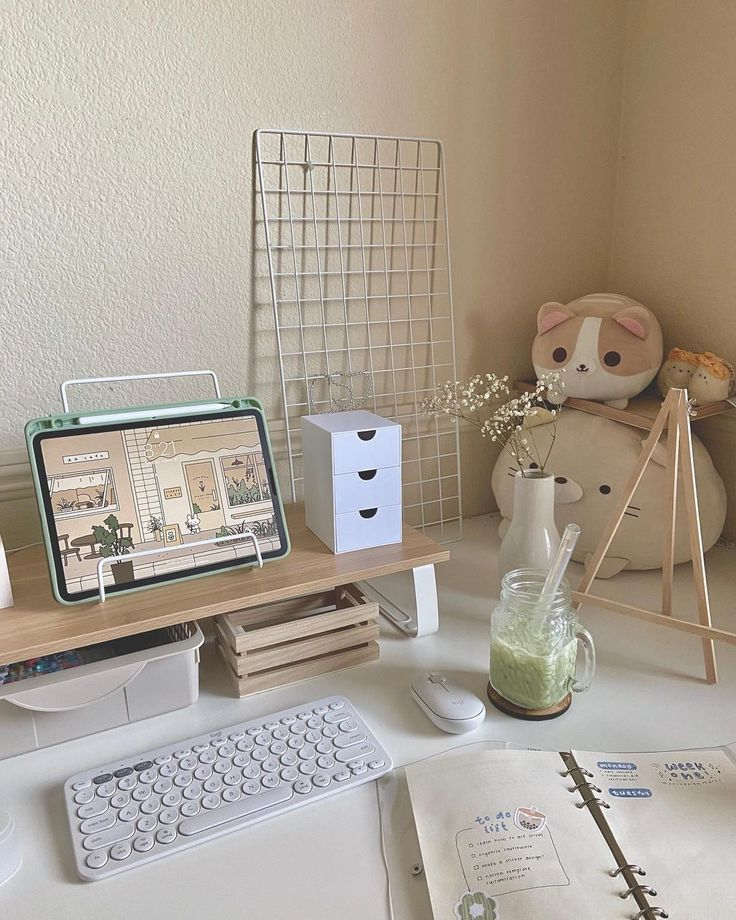not a gesture sign: (34, 341, 330, 686)
